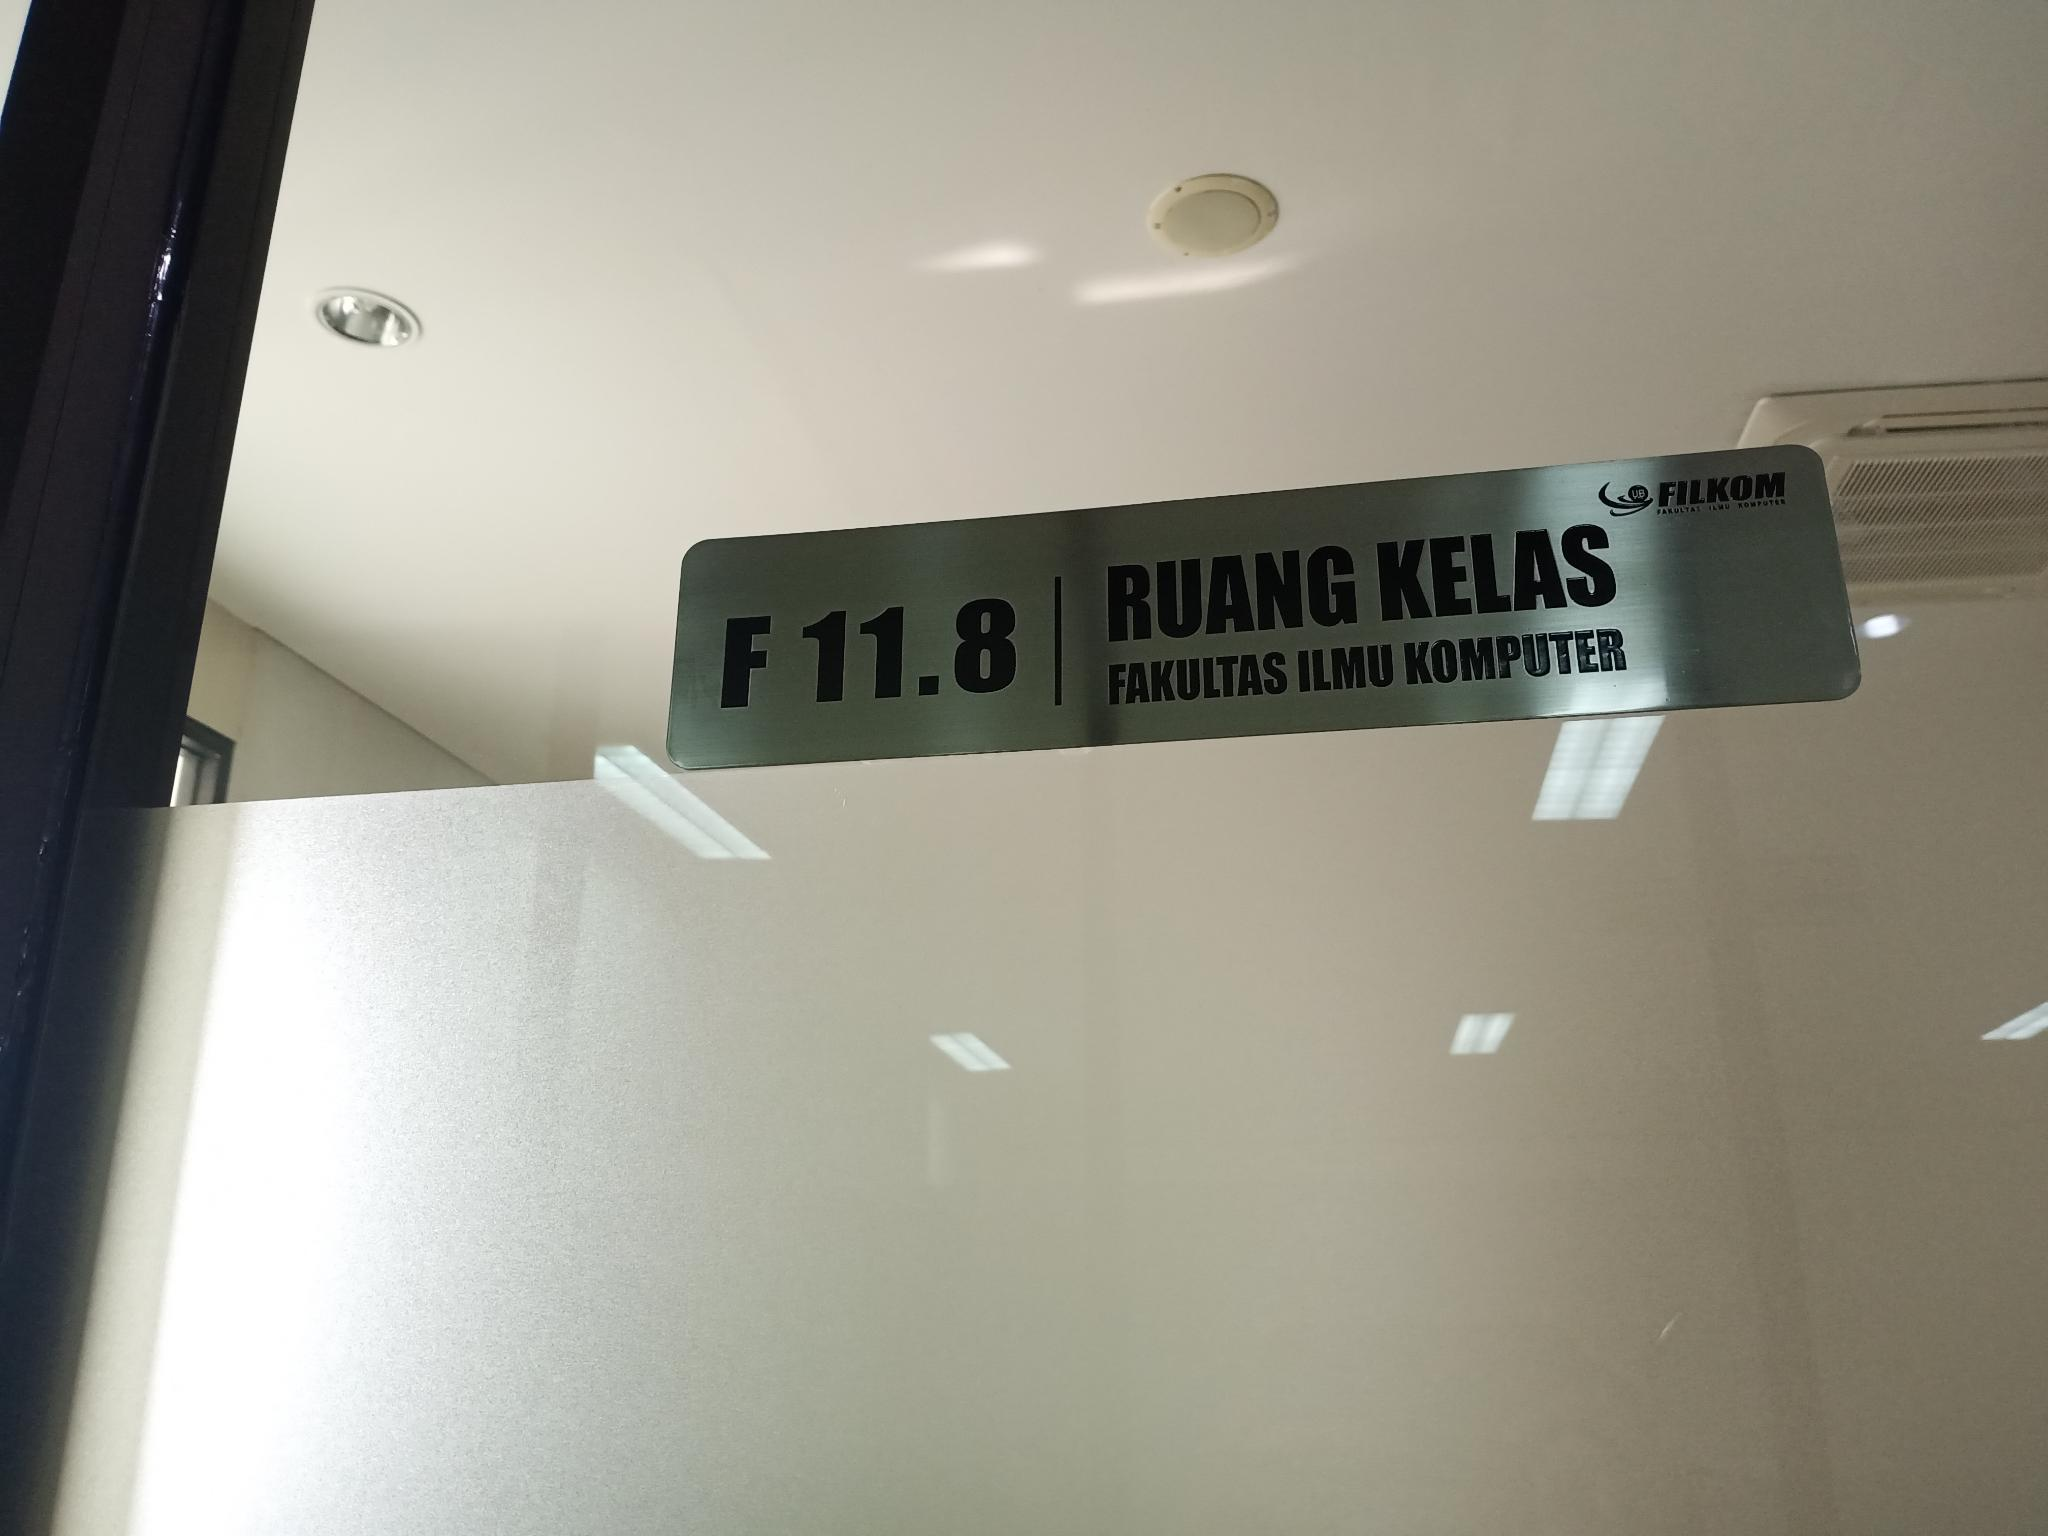plate: (660, 436, 1867, 773)
